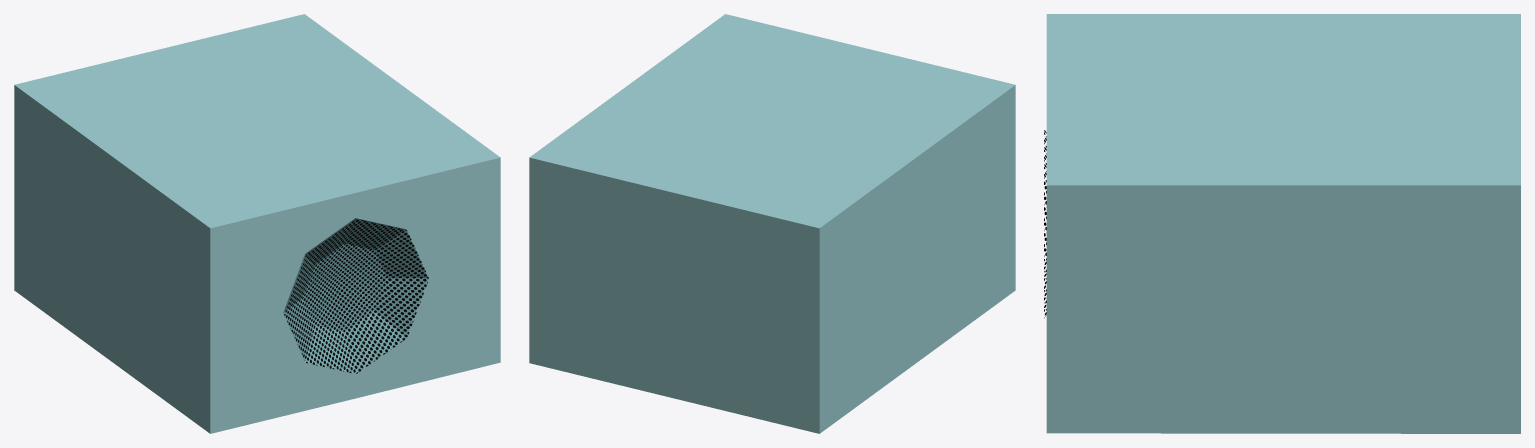
The model's file is Itr_Obj_Speaker1_Top_06.FBX.
The picture shows the model from 3 angles, left to right: view 1: azimuth 30°, elevation 25°; view 2: azimuth 150°, elevation 25°; view 3: azimuth 270°, elevation 25°; orthographic projection. The views are drawn at different scales.
Parts seen in each view (by area): view 1: Itr_Obj_Speaker1_Top_06; view 2: Itr_Obj_Speaker1_Top_06; view 3: Itr_Obj_Speaker1_Top_06.
Part boxes in pixels (x1=…): Itr_Obj_Speaker1_Top_06: x1=14, y1=14, x2=500, y2=433; Itr_Obj_Speaker1_Top_06: x1=529, y1=14, x2=1015, y2=433; Itr_Obj_Speaker1_Top_06: x1=1044, y1=14, x2=1520, y2=433.
Size of the model in its own units: 9.88 by 6.69 by 11.62.
